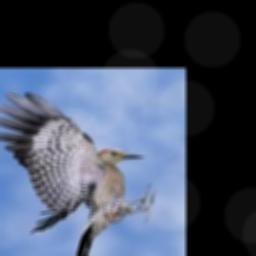Woodpecker: (0, 93, 157, 256)
